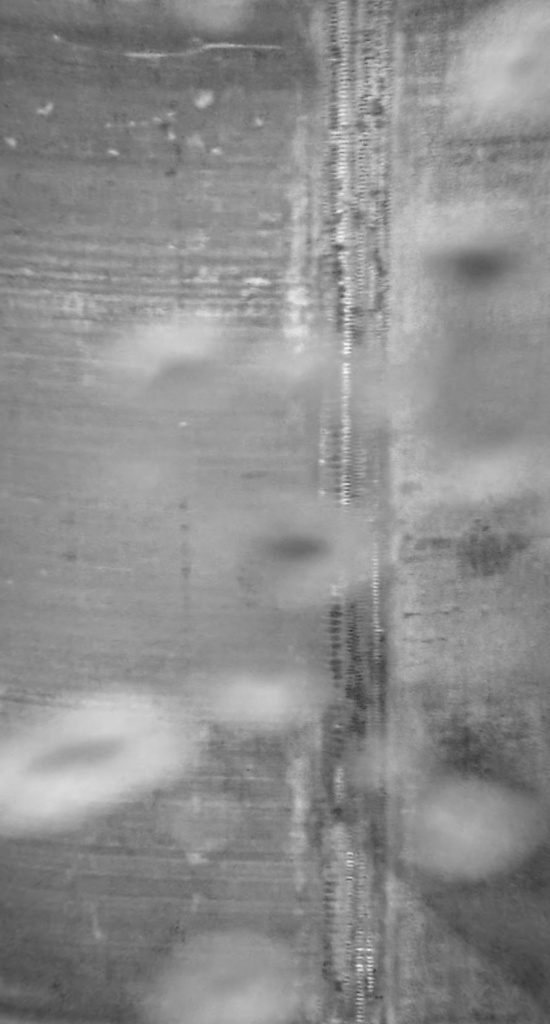splice: (314, 1, 411, 1023)
